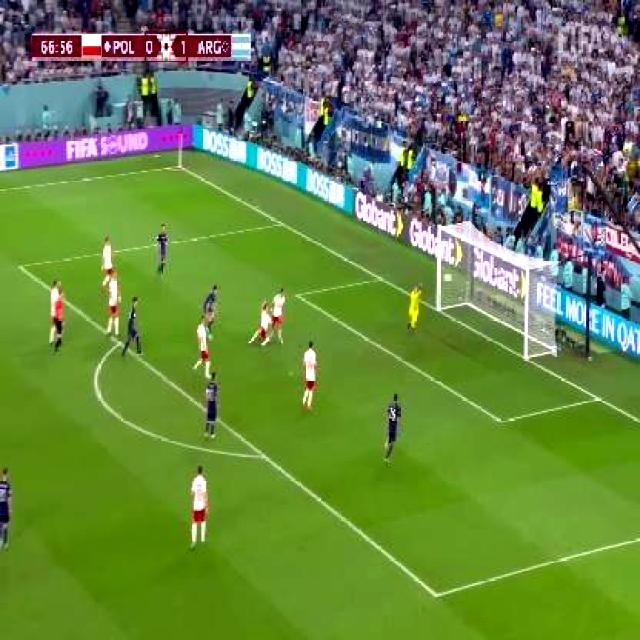bigarea_bottom_inner: (422, 576, 449, 612)
bigarea_top_inner: (9, 252, 29, 280)
bigarea_top_outter: (271, 211, 291, 235)
bottom_arc_area_intersection: (251, 438, 274, 472)
corner: (169, 158, 188, 176)
smallarea_bottom_inner: (488, 403, 512, 437)
smallarea_bottom_outter: (586, 383, 608, 411)
smallarea_top_inner: (286, 282, 308, 309)
smallarea_top_outter: (369, 266, 389, 291)
top_arc_area_intersection: (110, 330, 128, 356)
